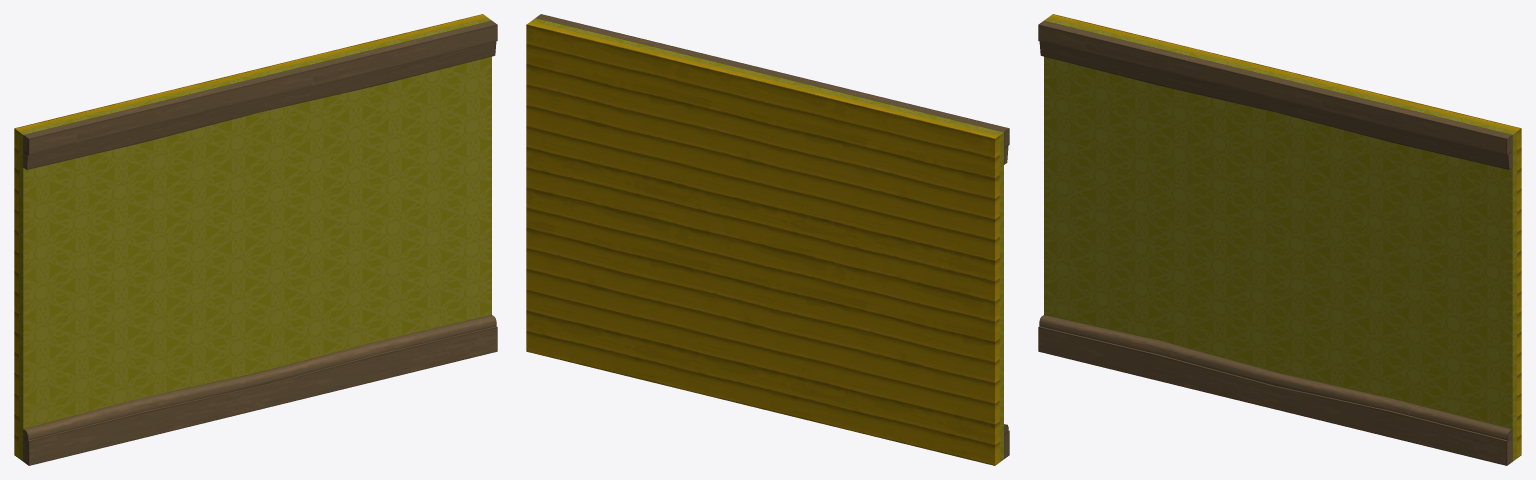
File: SM_building_wall_08.glb
3 views of the same model, side by side, from view 1: azimuth 30°, elevation 25°; view 2: azimuth 150°, elevation 25°; view 3: azimuth 330°, elevation 25° (orthographic).
Visible parts, largest first — view 1: SM_building_wall_08; view 2: SM_building_wall_08; view 3: SM_building_wall_08.
Boxes of the visible parts, x1,y1,x2,y2 form: SM_building_wall_08: (14, 14, 497, 465); SM_building_wall_08: (526, 14, 1009, 465); SM_building_wall_08: (1038, 14, 1521, 465).
Size of the model in its own units: 6 by 4 by 0.3245.
3 materials, 3 textured.
